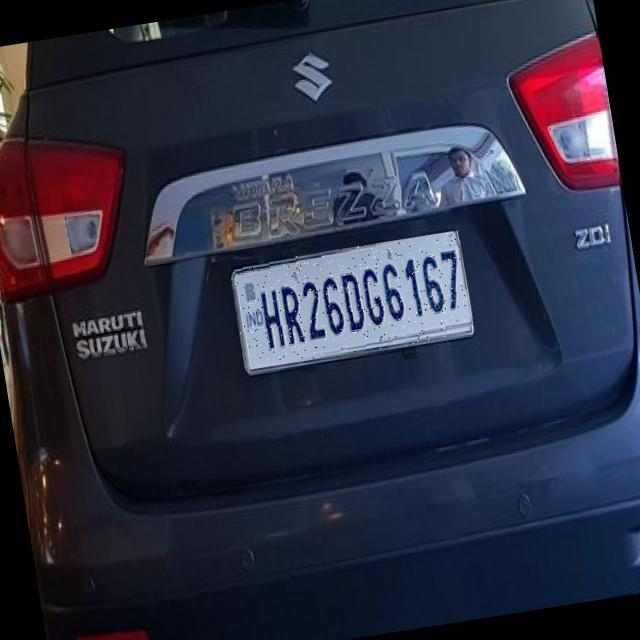Plate: (230, 232, 476, 372)
